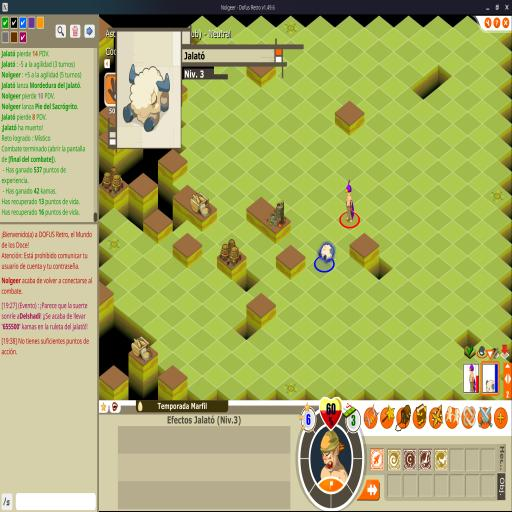Enemigos: (320, 243, 334, 262)
Personaje: (345, 180, 355, 224)
